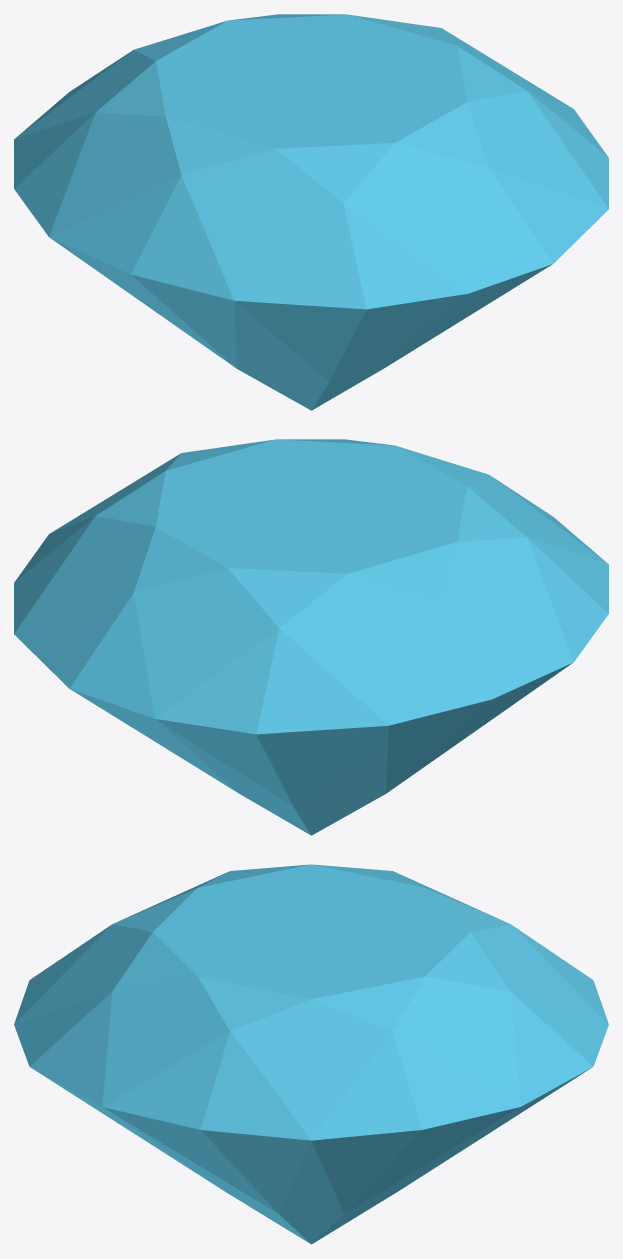
Rendered from Aquamarine.fbx.
The picture shows the model from 3 angles, top to bottom: view 1: azimuth 30°, elevation 25°; view 2: azimuth 150°, elevation 25°; view 3: azimuth 270°, elevation 25°; orthographic projection. The views are drawn at different scales.
Parts seen in each view (by area): view 1: Plane; view 2: Plane; view 3: Plane.
Part boxes in pixels (box(x1,y1,x2,y2)): Plane: box(14, 14, 608, 410); Plane: box(14, 439, 608, 835); Plane: box(14, 864, 608, 1244).
Size of the model in its own units: 516 by 309 by 534.
